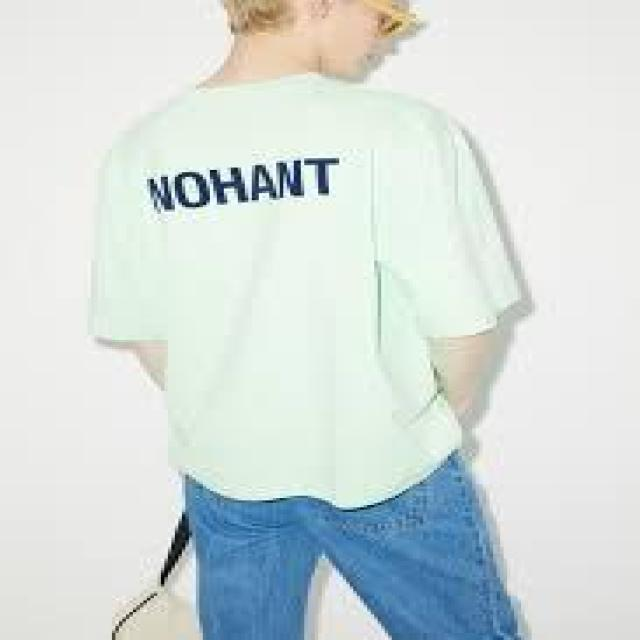Tshirt: (61, 68, 572, 510)
